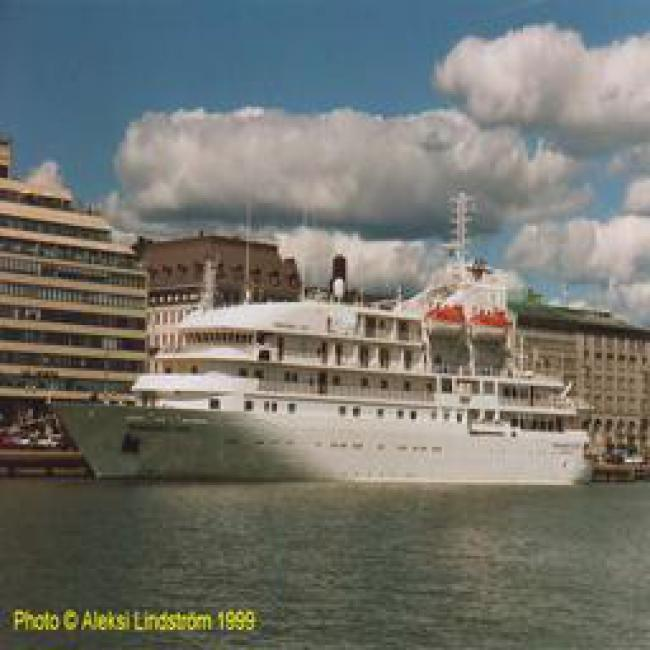Ship: (75, 299, 609, 499)
